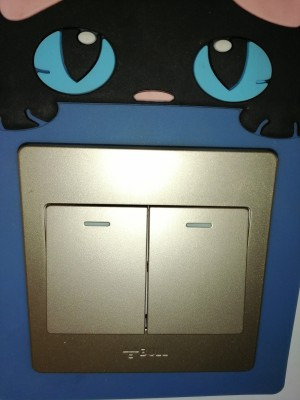switch: (40, 198, 152, 341), (144, 199, 251, 342)
